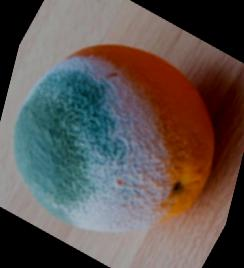Orange Rotten: (0, 15, 243, 263)
